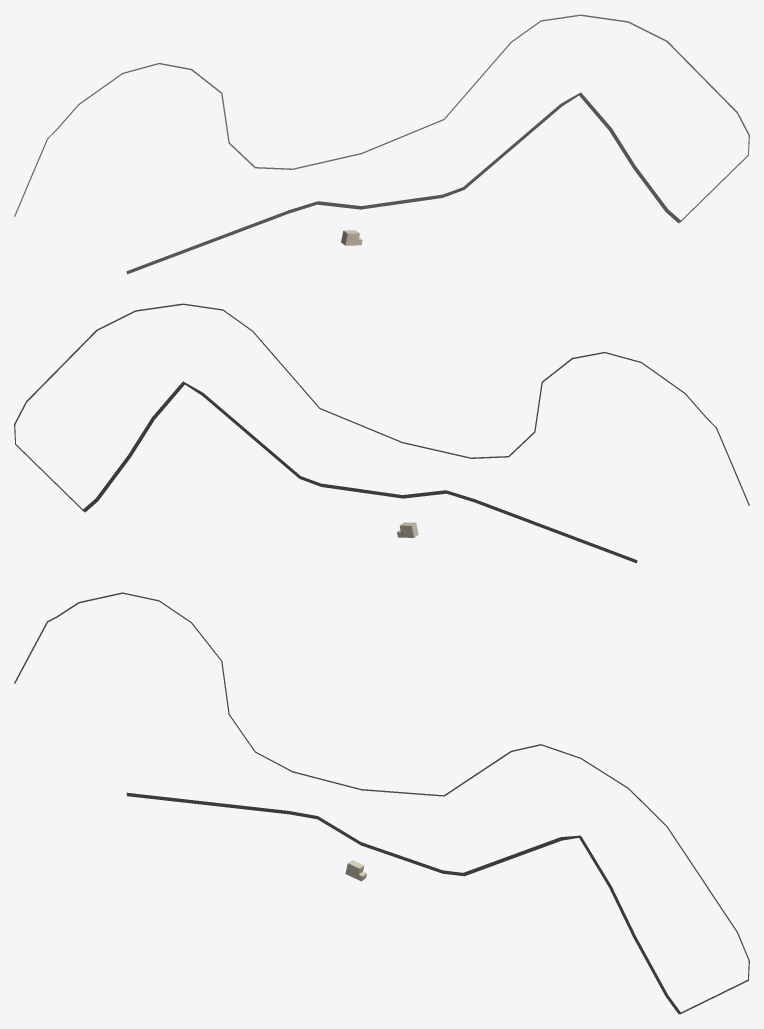
File: historic-palestine-13_36_3547_3304.glb
The picture shows the model from 3 angles, top to bottom: view 1: azimuth 30°, elevation 25°; view 2: azimuth 150°, elevation 25°; view 3: azimuth 330°, elevation 25°; orthographic projection.
Parts seen in each view (by area): view 1: Road, Road .001; view 2: Road, Road .001; view 3: Road, Road .001.
Part boxes in pixels (x1,y1,x2,y2): Road: [126, 92, 680, 274]; Road .001: [14, 14, 749, 222]; Road: [83, 381, 637, 563]; Road .001: [14, 303, 749, 511]; Road: [126, 792, 680, 1014]; Road .001: [14, 592, 749, 1014].
Size of the model in its own units: 719 by 268 by 8.7.
